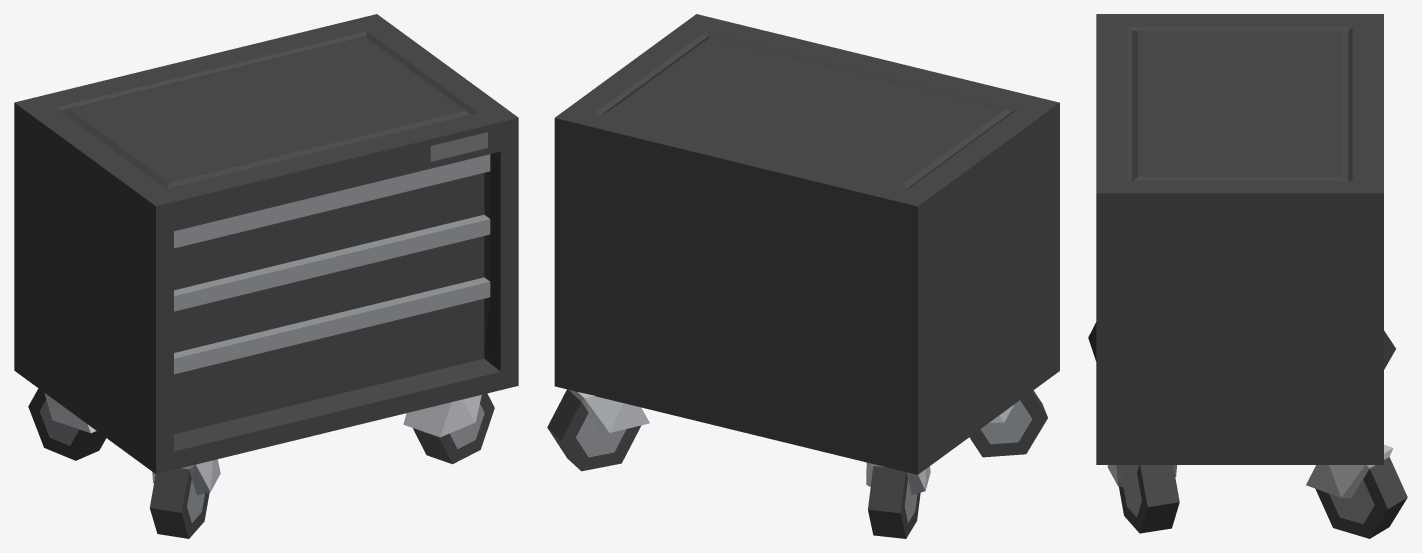
File: SM_Prop_ToolCabinet_01.obj
The picture shows the model from 3 angles, left to right: view 1: azimuth 30°, elevation 25°; view 2: azimuth 150°, elevation 25°; view 3: azimuth 270°, elevation 25°; orthographic projection.
Parts seen in each view (by area): view 1: SM_Prop_ToolCabinet_01_0; view 2: SM_Prop_ToolCabinet_01_0; view 3: SM_Prop_ToolCabinet_01_0.
Boxes of the visible parts, <box> form: SM_Prop_ToolCabinet_01_0: <box>14,14,518,538</box>; SM_Prop_ToolCabinet_01_0: <box>547,14,1059,538</box>; SM_Prop_ToolCabinet_01_0: <box>1088,14,1407,538</box>.
Size of the model in its own units: 0.6939 by 0.619 by 0.5148.
Materials: 1 (1 with a texture image).
